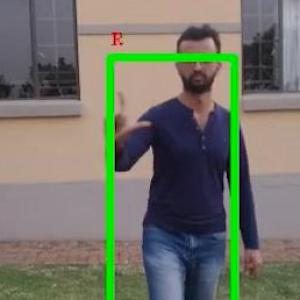land_hand: (98, 86, 157, 154)
